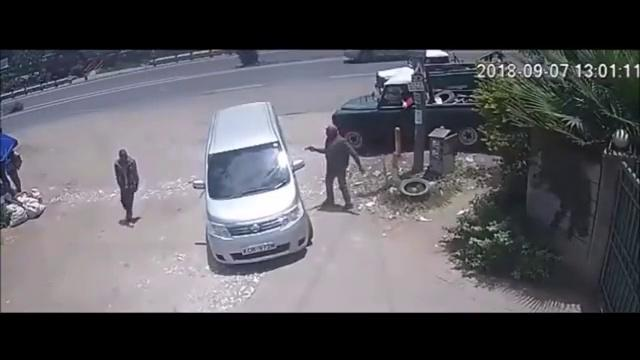weapon: (300, 140, 314, 153)
